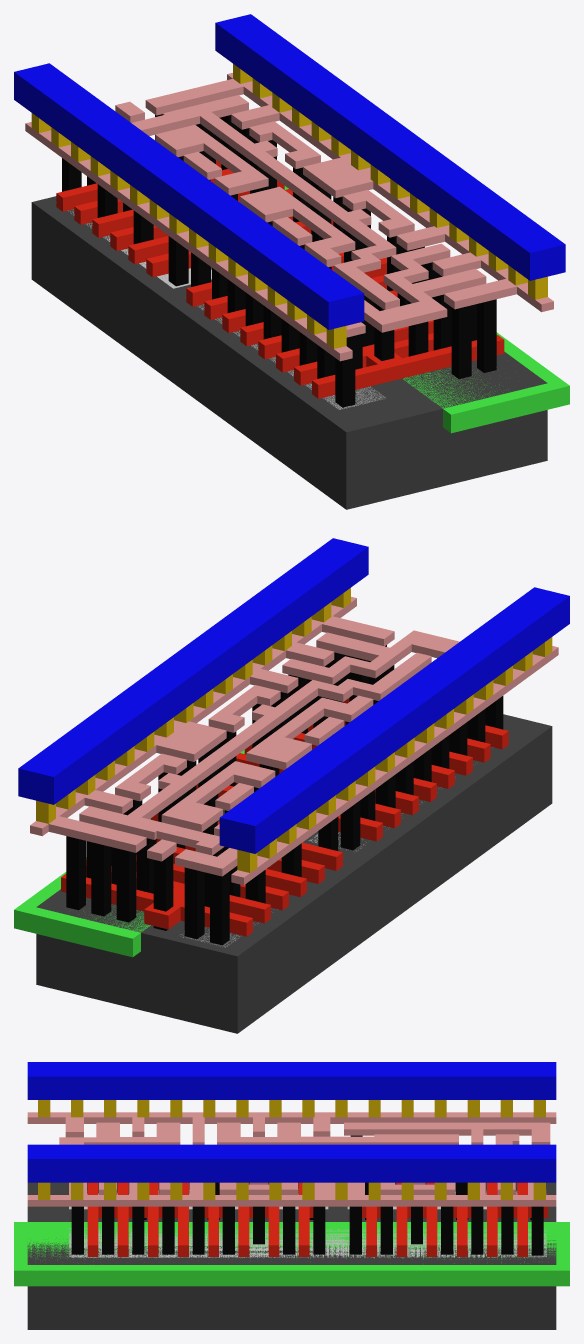
File: sky130_fd_sc_hd__o221a_4.obj
3 views of the same model, one above another, from view 1: azimuth 30°, elevation 25°; view 2: azimuth 150°, elevation 25°; view 3: azimuth 270°, elevation 25° (orthographic). The views are drawn at different scales.
Visible parts, largest first — view 1: subs, metal1, li, licon, poly, mcon, nwell, diff; view 2: subs, metal1, li, licon, poly, mcon, nwell; view 3: metal1, subs, li, nwell, licon, poly, mcon, tap.
Part boxes in pixels (left/top/right/bottom): subs: left=31, top=196, right=547, bottom=509; metal1: left=14, top=14, right=565, bottom=329; li: left=25, top=73, right=553, bottom=361; licon: left=62, top=114, right=496, bottom=407; poly: left=56, top=160, right=504, bottom=398; mcon: left=31, top=64, right=547, bottom=348; nwell: left=284, top=186, right=569, bottom=433; diff: left=68, top=209, right=385, bottom=409; subs: left=36, top=714, right=552, bottom=1033; metal1: left=18, top=538, right=569, bottom=853; li: left=30, top=597, right=558, bottom=885; licon: left=66, top=645, right=503, bottom=945; poly: left=61, top=698, right=508, bottom=936; mcon: left=36, top=588, right=552, bottom=872; nwell: left=14, top=750, right=244, bottom=957; metal1: left=27, top=1062, right=556, bottom=1182; subs: left=27, top=1182, right=556, bottom=1329; li: left=27, top=1112, right=556, bottom=1206; nwell: left=14, top=1222, right=569, bottom=1286; licon: left=71, top=1135, right=543, bottom=1255; poly: left=87, top=1182, right=548, bottom=1256; mcon: left=38, top=1100, right=545, bottom=1199; tap: left=69, top=1227, right=546, bottom=1257.
Size of the model in its own units: 3.2 by 2.74 by 7.74.
